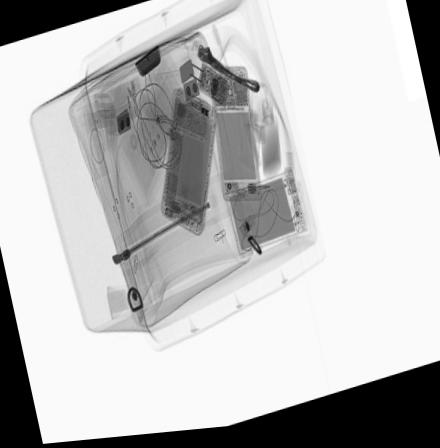Powerbank: (224, 168, 306, 258)
